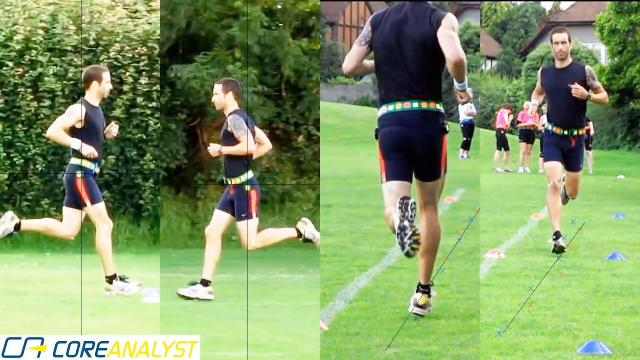berlari: (0, 59, 144, 301), (180, 72, 318, 312), (526, 21, 610, 265)
